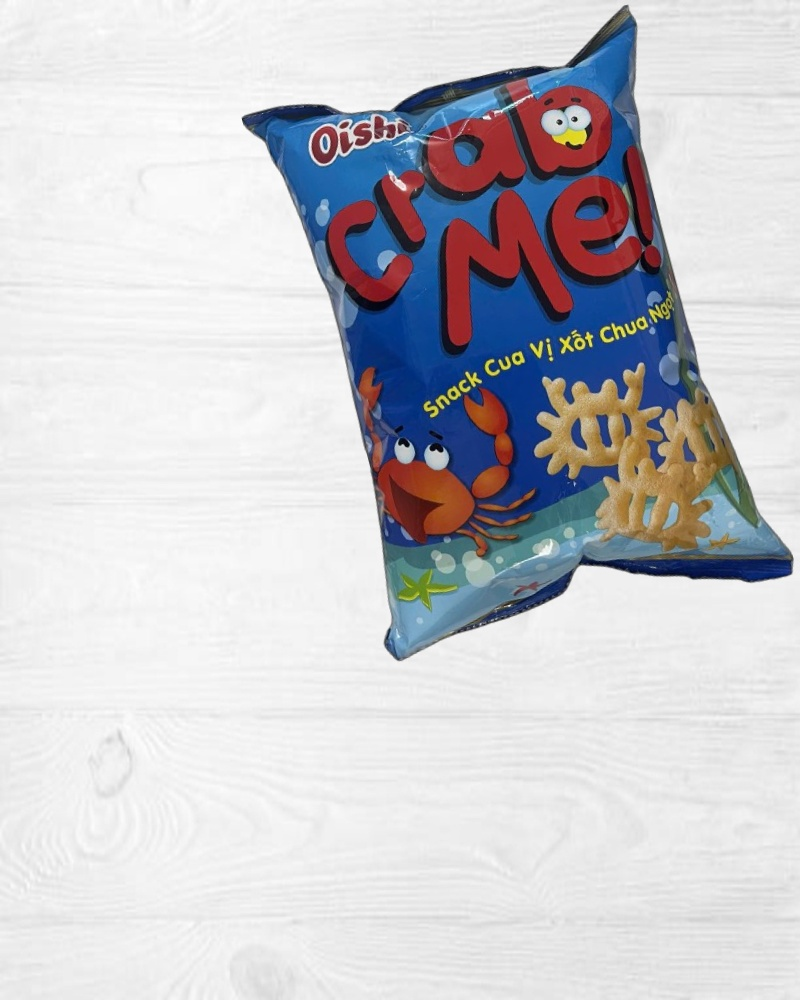Snack cua: (240, 1, 796, 675)
